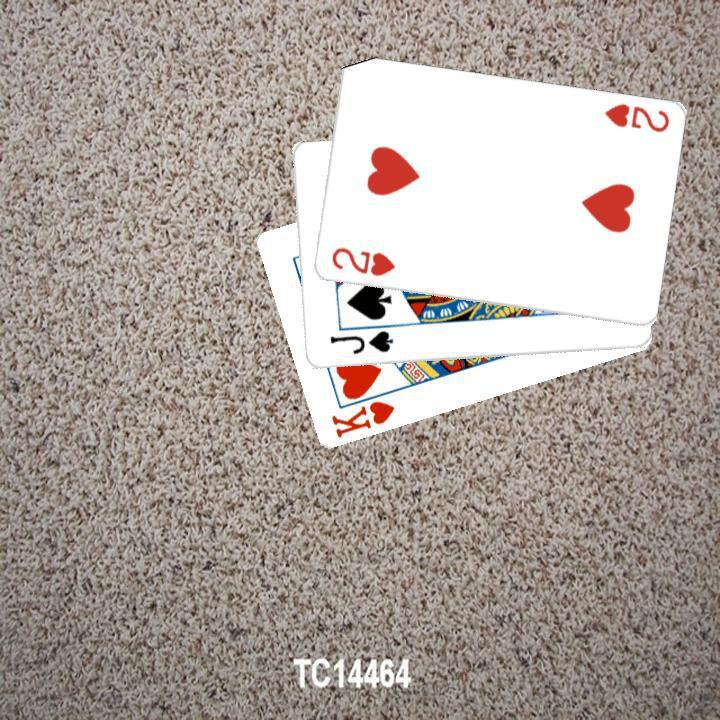2: (599, 99, 671, 135), (326, 243, 397, 279)
J: (325, 327, 395, 357)
K: (327, 397, 397, 441)
